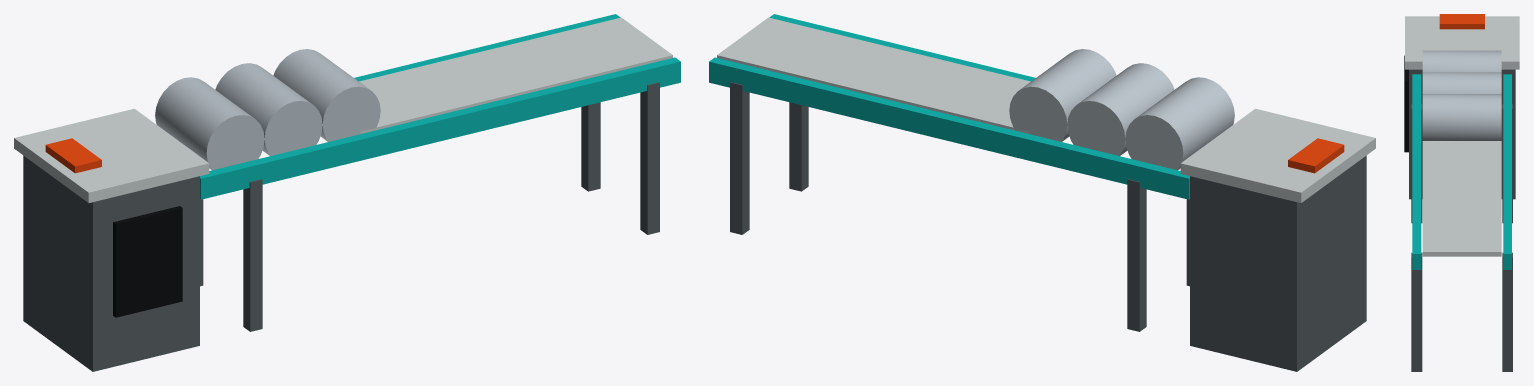
The model's file is transfer_auxiliary_cell.dae.
3 renders of one model, left to right at view 1: azimuth 30°, elevation 25°; view 2: azimuth 150°, elevation 25°; view 3: azimuth 270°, elevation 25°, orthographic. The views are drawn at different scales.
Visible parts, largest first — view 1: transfer_auxiliary_cell; view 2: transfer_auxiliary_cell; view 3: transfer_auxiliary_cell.
Boxes of the visible parts, x1=… form: transfer_auxiliary_cell: x1=14, y1=14, x2=680, y2=371; transfer_auxiliary_cell: x1=709, y1=14, x2=1375, y2=371; transfer_auxiliary_cell: x1=1404, y1=14, x2=1519, y2=371.
Bounding box in the file's own units: 2.67 × 0.5825 × 0.91.
